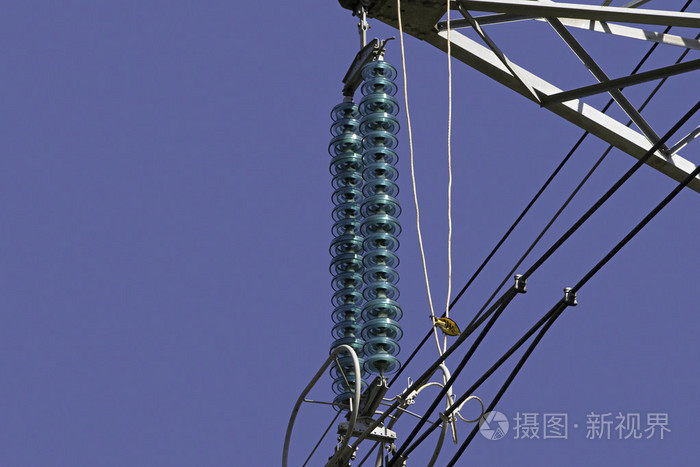insulator: (328, 61, 401, 410)
